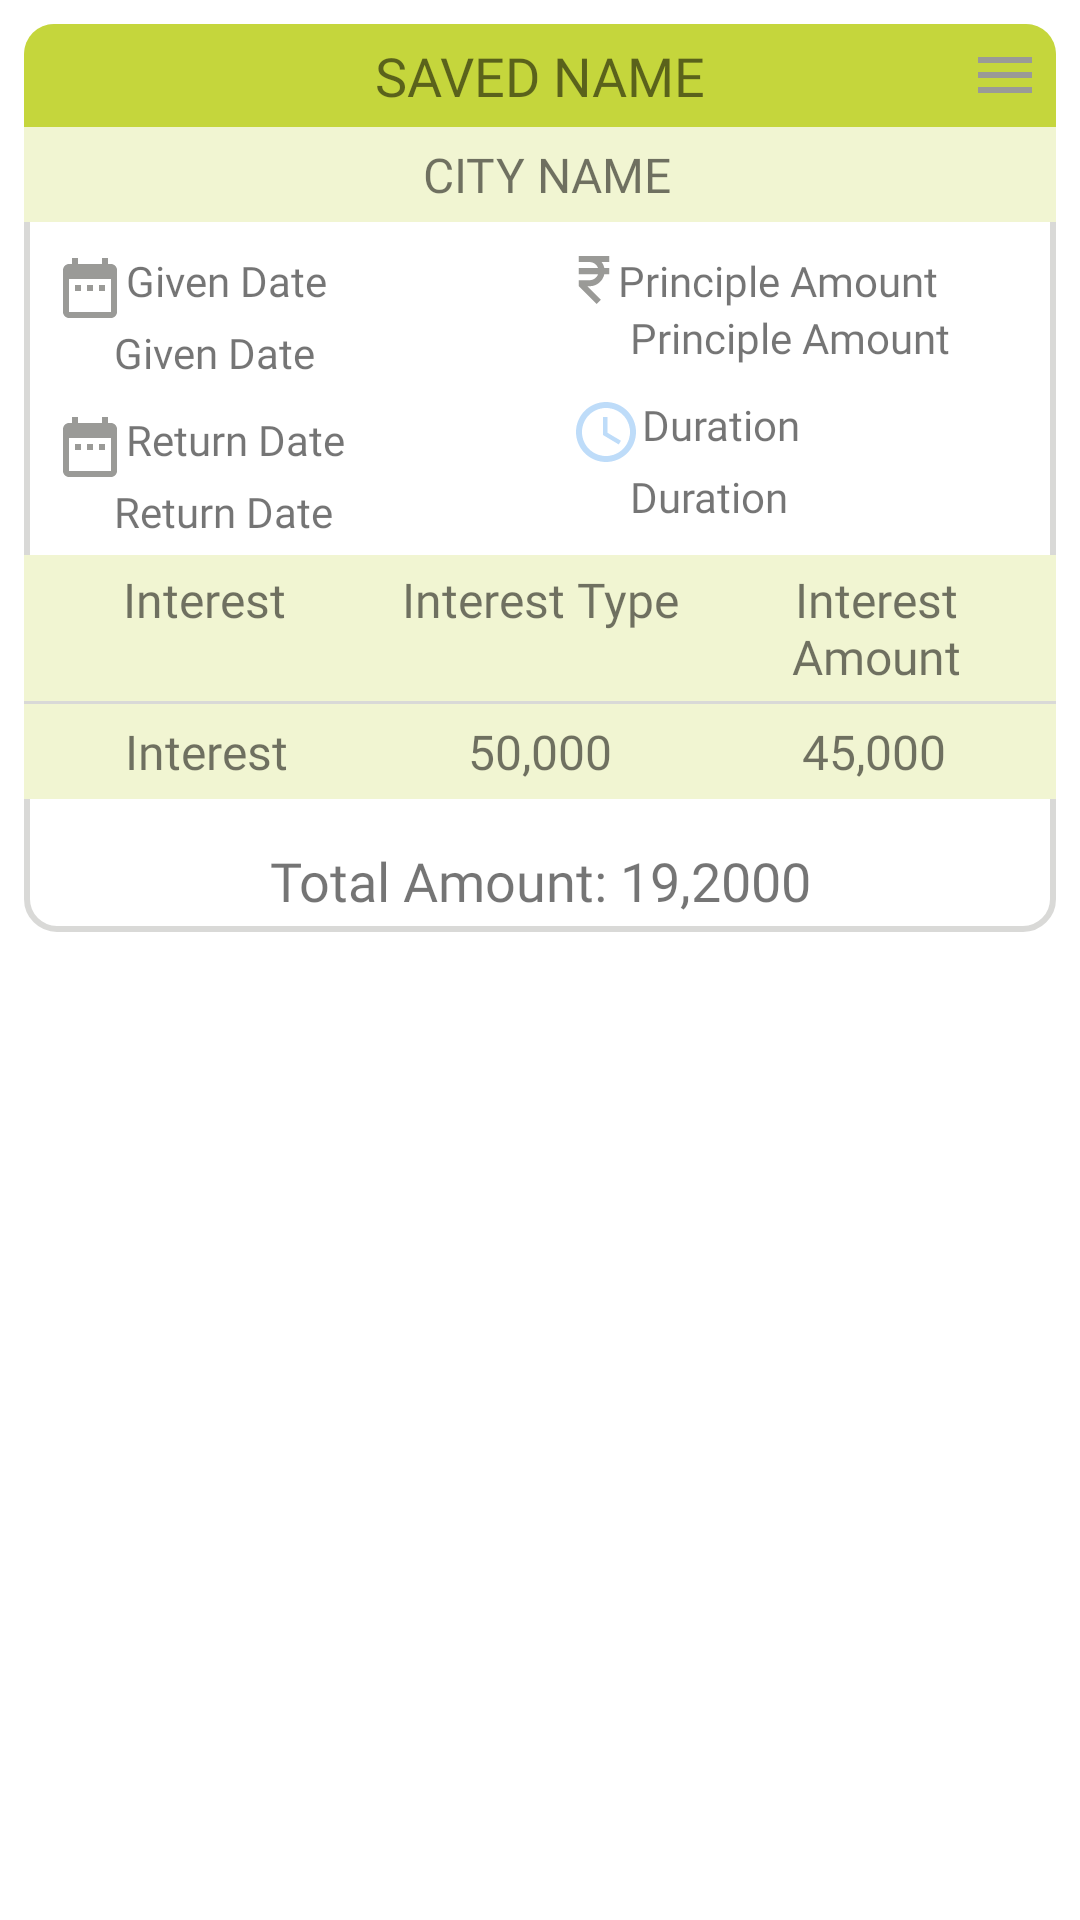

Icons on this 1080w x 1920h Android screen, each with its box as (x1, y1, x2, y2):
menu: (978, 57, 1032, 93)
